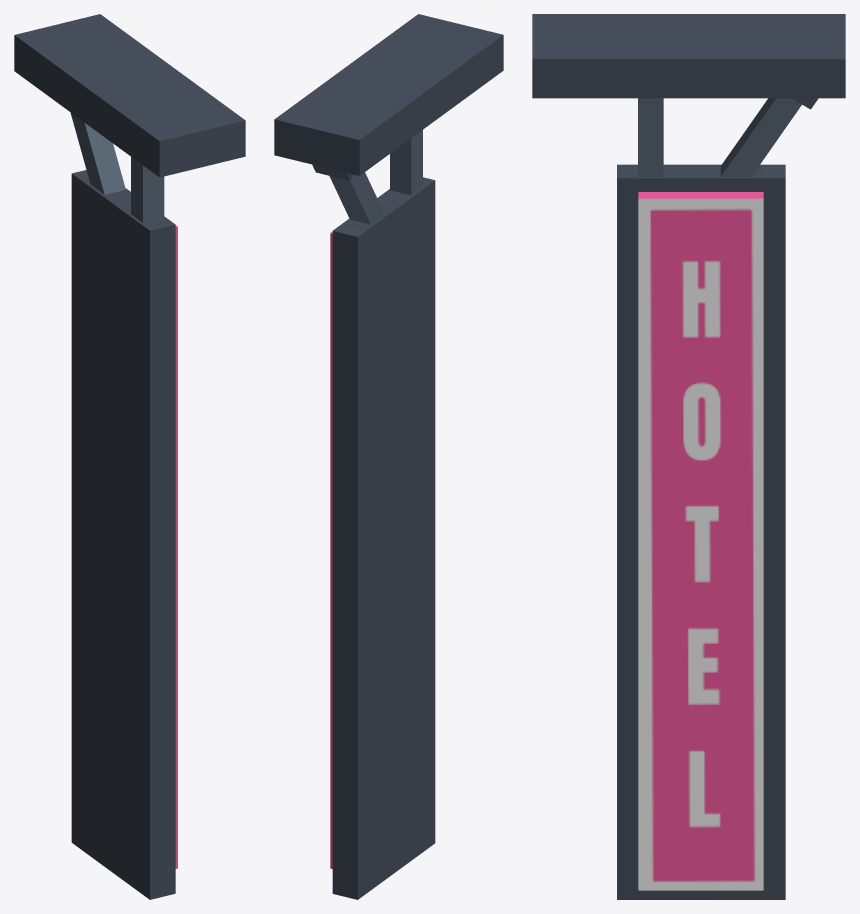
File: SignProp_1_A_6.glb
3 views of the same model, side by side, from view 1: azimuth 30°, elevation 25°; view 2: azimuth 150°, elevation 25°; view 3: azimuth 270°, elevation 25° (orthographic). The views are drawn at different scales.
Visible parts, largest first — view 1: SignProp_1_A_6; view 2: SignProp_1_A_6; view 3: SignProp_1_A_6.
Part boxes in pixels (box(x1,y1,x2,y2)): SignProp_1_A_6: box(14, 14, 245, 899); SignProp_1_A_6: box(274, 14, 503, 899); SignProp_1_A_6: box(532, 14, 845, 899).
Size of the model in its own units: 0.2079 by 1.84 by 0.6095.
Materials: 2 (2 with a texture image).
